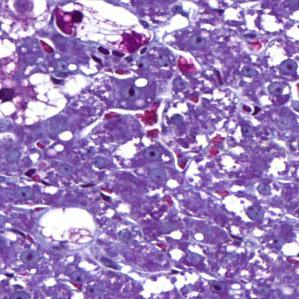ballooning: (50, 3, 151, 59), (6, 62, 68, 129)
